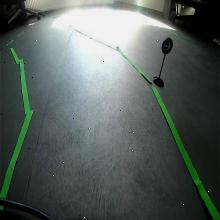right: (161, 36, 174, 55)
